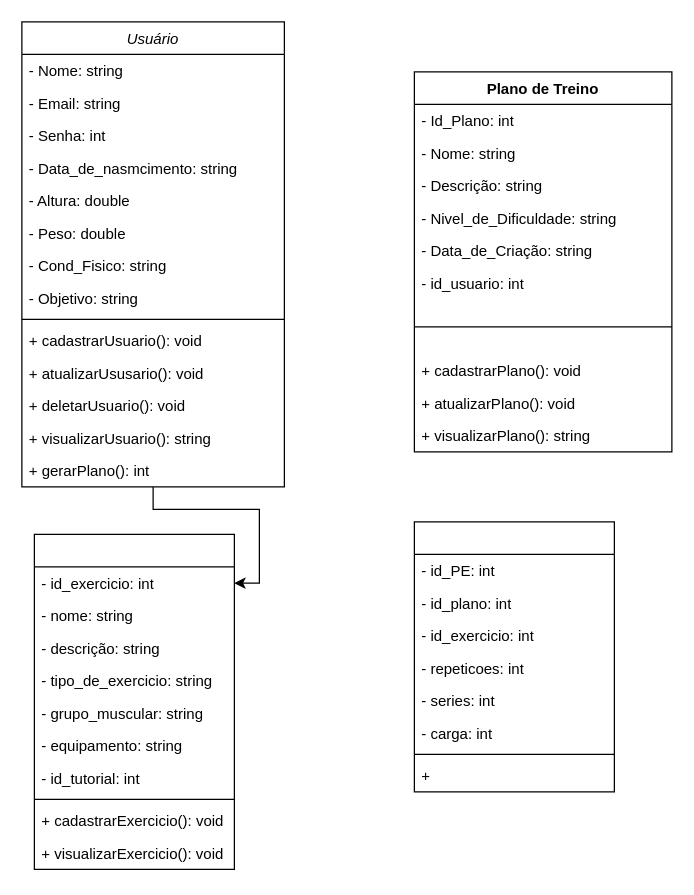
The diagram is 694 pixels wide and 895 high, and some of its shapes have lost their labels. Each missing label, with the box of its shape:
Exercício: (33, 533, 234, 869)
Plano de Exercício: (413, 521, 614, 792)
